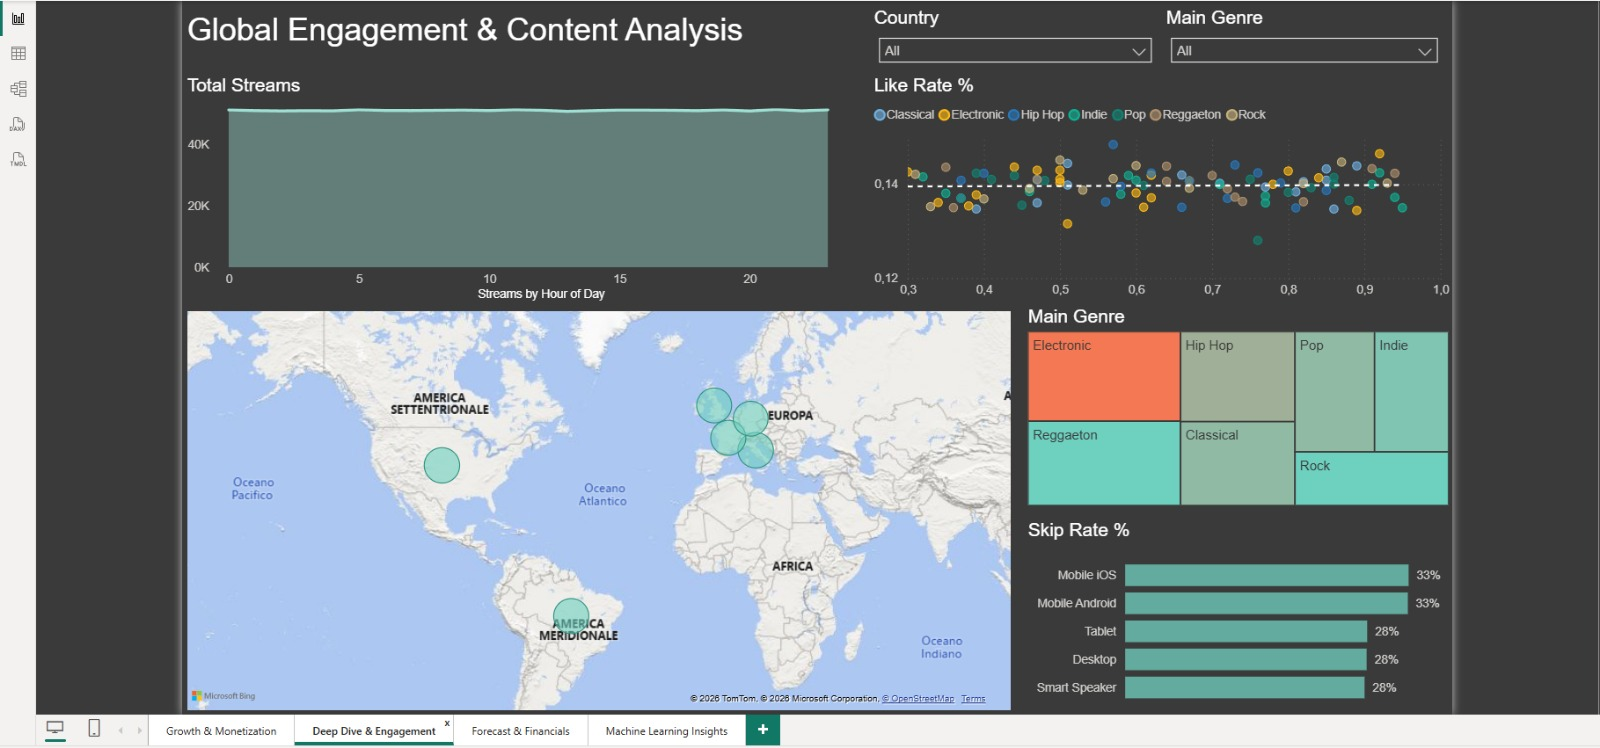

The page's visual inventory and layout, read from the dashboard file:
{"tool":"powerbi","page":{"name":"Deep Dive & Engagement","canvas":[1280,720],"ordinal":1},"visuals":[{"type":"map","title":"Map","fields":{"Category":["D_Users.country"],"Size":["F_Streams.Total Streams"]},"box":[0,307.5,840.1,413.3],"z":0},{"type":"clusteredBarChart","title":"Skip Rate %","fields":{"Category":["F_Streams.device_type"],"Y":["F_Streams.Skip Rate %"]},"box":[847.8,523.3,426.7,197.5],"z":1000},{"type":"scatterChart","title":"Like Rate %","fields":{"Category":["D_Tracks.track_title"],"X":["Sum(D_Tracks.energy)"],"Y":["F_Streams.Like Rate %"],"Series":["D_Tracks.main_genre"]},"box":[692.2,74.4,590,233.1],"z":2000},{"type":"treemap","title":"Main Genre","fields":{"Group":["D_Tracks.main_genre"],"Values":["F_Streams.Total Streams"]},"box":[847.3,307.5,434,206.2],"z":3000},{"type":"areaChart","title":"Total Streams","fields":{"Category":["F_Streams.listen_hour"],"Y":["F_Streams.Total Streams"]},"box":[0,74.4,692.2,233.1],"z":4000},{"type":"slicer","title":"Country","fields":{"Values":["D_Users.country"]},"box":[692.2,6.3,295,68.1],"z":5000},{"type":"slicer","title":"Main Genre","fields":{"Values":["D_Tracks.main_genre"]},"box":[987.2,6.3,288.7,63.7],"z":6000},{"type":"textbox","box":[0,6.3,640.2,63.7],"z":7000}]}

Visuals, with their boxes on the page's 1280x720 design canvas (x1, y1, x2, y2). These are canvas units, not pixel positions in the 1600x748 screenshot, which may show the page scaled, cropped or inside an application window:
"Map" map: (left=0, top=308, right=840, bottom=721)
"Skip Rate %" clusteredBarChart: (left=848, top=523, right=1274, bottom=721)
"Like Rate %" scatterChart: (left=692, top=74, right=1282, bottom=308)
"Main Genre" treemap: (left=847, top=308, right=1281, bottom=514)
"Total Streams" areaChart: (left=0, top=74, right=692, bottom=308)
"Country" slicer: (left=692, top=6, right=987, bottom=74)
"Main Genre" slicer: (left=987, top=6, right=1276, bottom=70)
textbox: (left=0, top=6, right=640, bottom=70)
